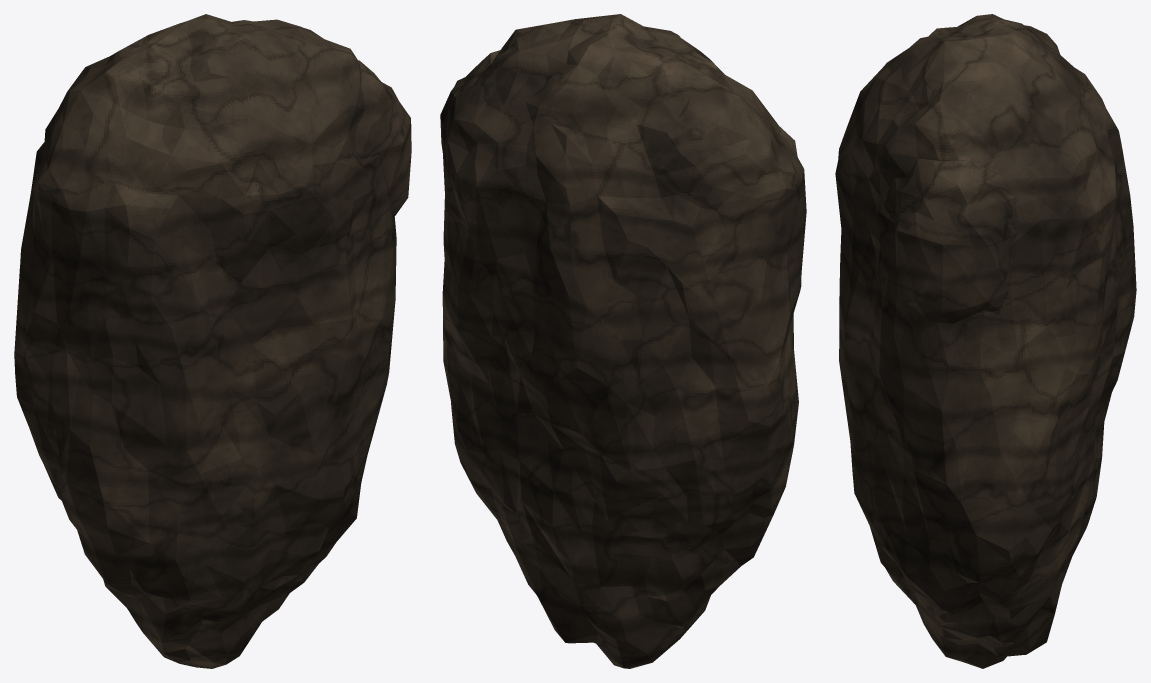
Rendered from ramp_rock_big_b.glb.
3 renders of one model, left to right at view 1: azimuth 30°, elevation 25°; view 2: azimuth 150°, elevation 25°; view 3: azimuth 270°, elevation 25°, orthographic.
Parts seen in each view (by area): view 1: ramp_rock_big_b; view 2: ramp_rock_big_b; view 3: ramp_rock_big_b.
Part boxes in pixels (left/top/right/bottom): ramp_rock_big_b: left=14, top=14, right=411, bottom=668; ramp_rock_big_b: left=440, top=14, right=806, bottom=668; ramp_rock_big_b: left=835, top=14, right=1136, bottom=668.
Size of the model in its own units: 1.69 by 2.9 by 1.25.
1 material, 1 textured.
